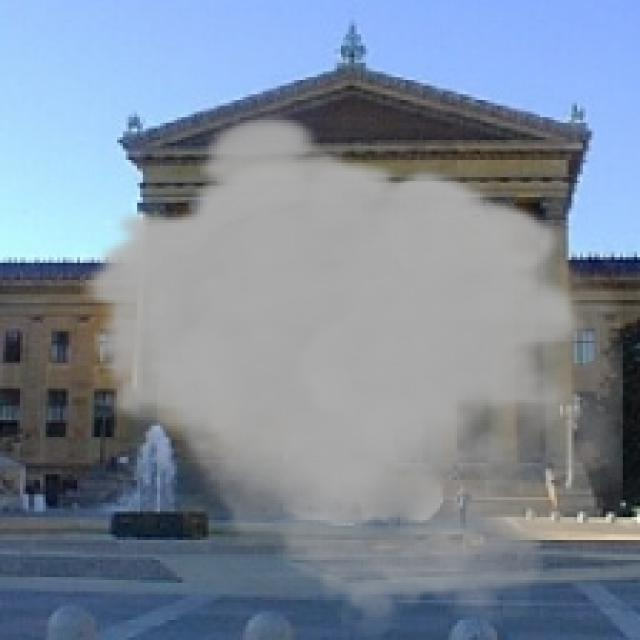Smoke: (80, 112, 626, 638)
